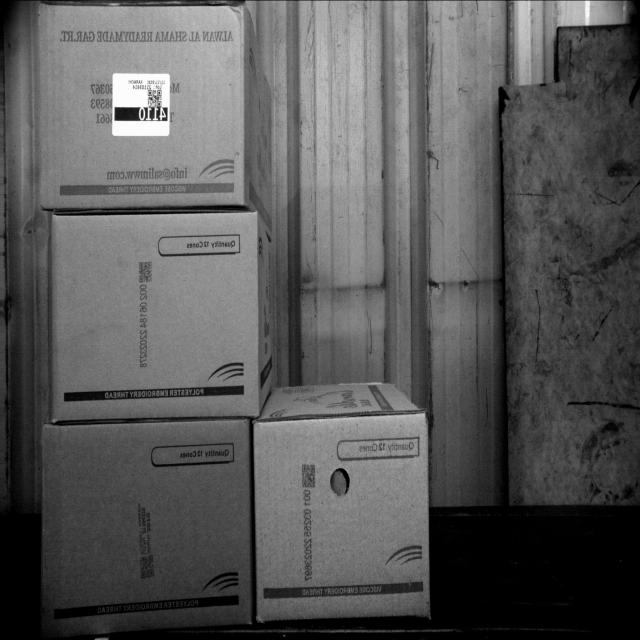cardboxes: (34, 0, 245, 215), (49, 204, 257, 422), (39, 420, 244, 639), (252, 411, 428, 631)
